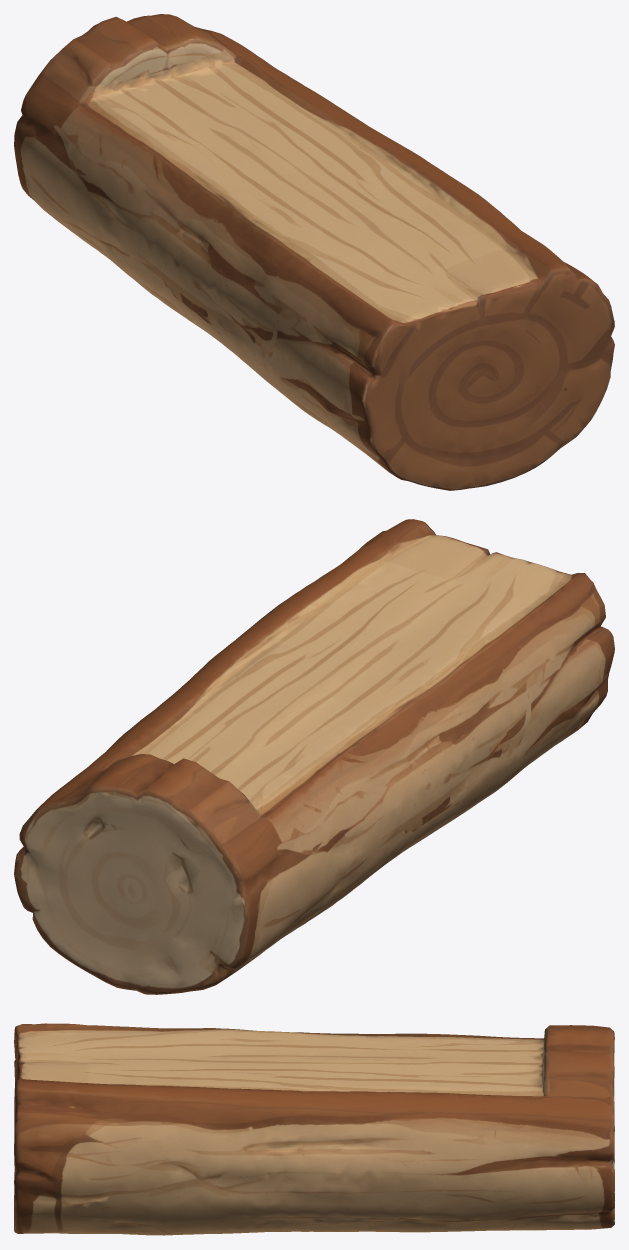
The model's file is Env_LogLedge.fbx.
3 renders of one model, top to bottom at view 1: azimuth 30°, elevation 25°; view 2: azimuth 150°, elevation 25°; view 3: azimuth 270°, elevation 25°, orthographic. The views are drawn at different scales.
Visible parts, largest first — view 1: texture_mapping; view 2: texture_mapping; view 3: texture_mapping.
Boxes of the visible parts, x1,y1,x2,y2 form: texture_mapping: (14, 14, 614, 490); texture_mapping: (14, 519, 614, 994); texture_mapping: (14, 1023, 614, 1235).
Size of the model in its own units: 0.4148 by 0.9987 by 0.3275.
1 material, 1 textured.
